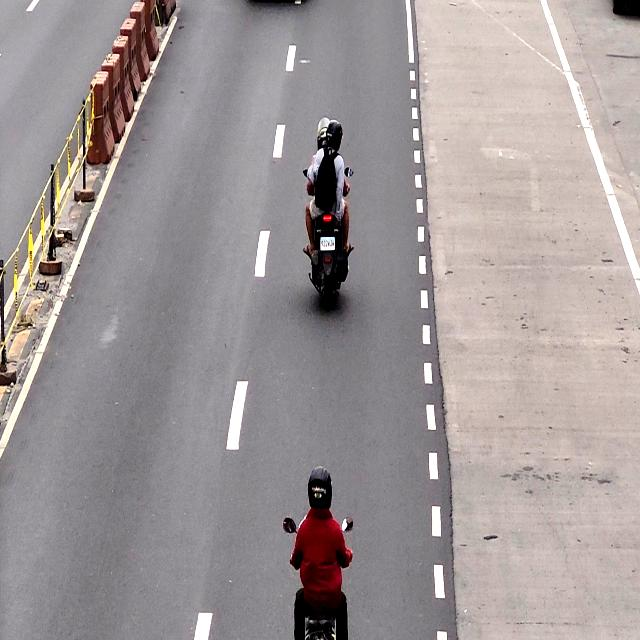Motorcycle: (292, 469, 352, 640), (307, 117, 346, 306), (318, 234, 336, 252)
